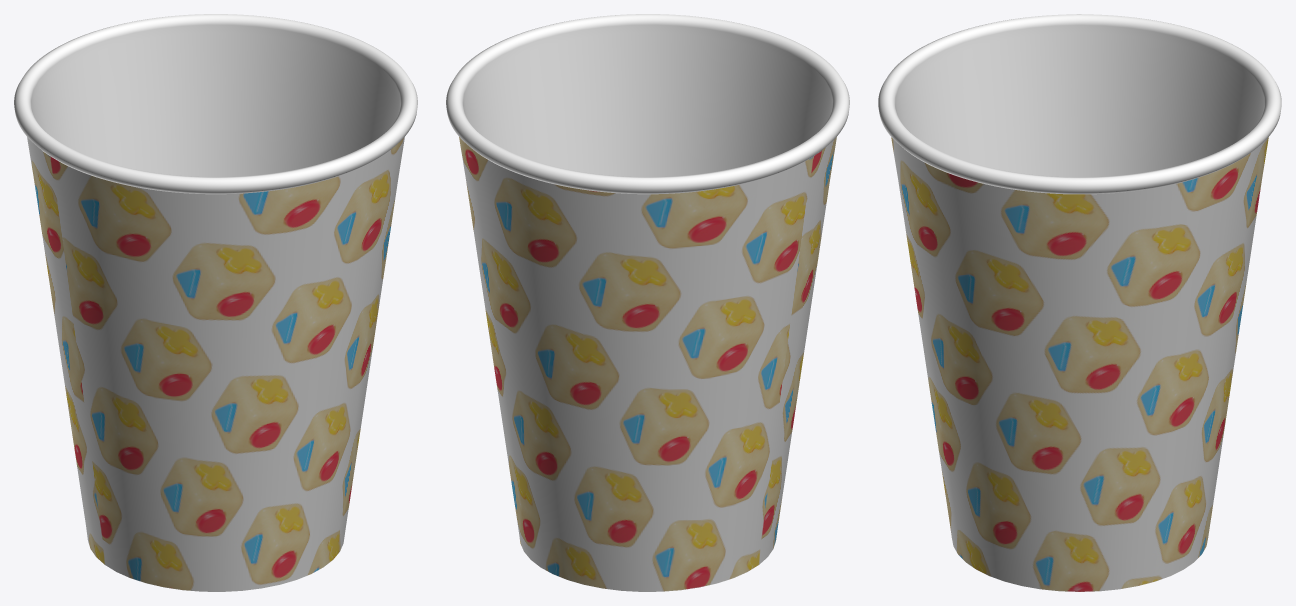
Rendered from paper_cup_render_cube.glb.
3 views of the same model, side by side, from view 1: azimuth 30°, elevation 25°; view 2: azimuth 150°, elevation 25°; view 3: azimuth 270°, elevation 25° (orthographic).
Parts seen in each view (by area): view 1: sw2urdf_7edb884b-a147-4a23-99dc-1c8c89e5e1d3; view 2: sw2urdf_7edb884b-a147-4a23-99dc-1c8c89e5e1d3; view 3: sw2urdf_7edb884b-a147-4a23-99dc-1c8c89e5e1d3.
Boxes of the visible parts, x1=… form: sw2urdf_7edb884b-a147-4a23-99dc-1c8c89e5e1d3: x1=14, y1=14, x2=417, y2=591; sw2urdf_7edb884b-a147-4a23-99dc-1c8c89e5e1d3: x1=446, y1=14, x2=849, y2=591; sw2urdf_7edb884b-a147-4a23-99dc-1c8c89e5e1d3: x1=878, y1=14, x2=1281, y2=591.
Size of the model in its own units: 0.0932 by 0.1124 by 0.0931.
1 material, 1 textured.
